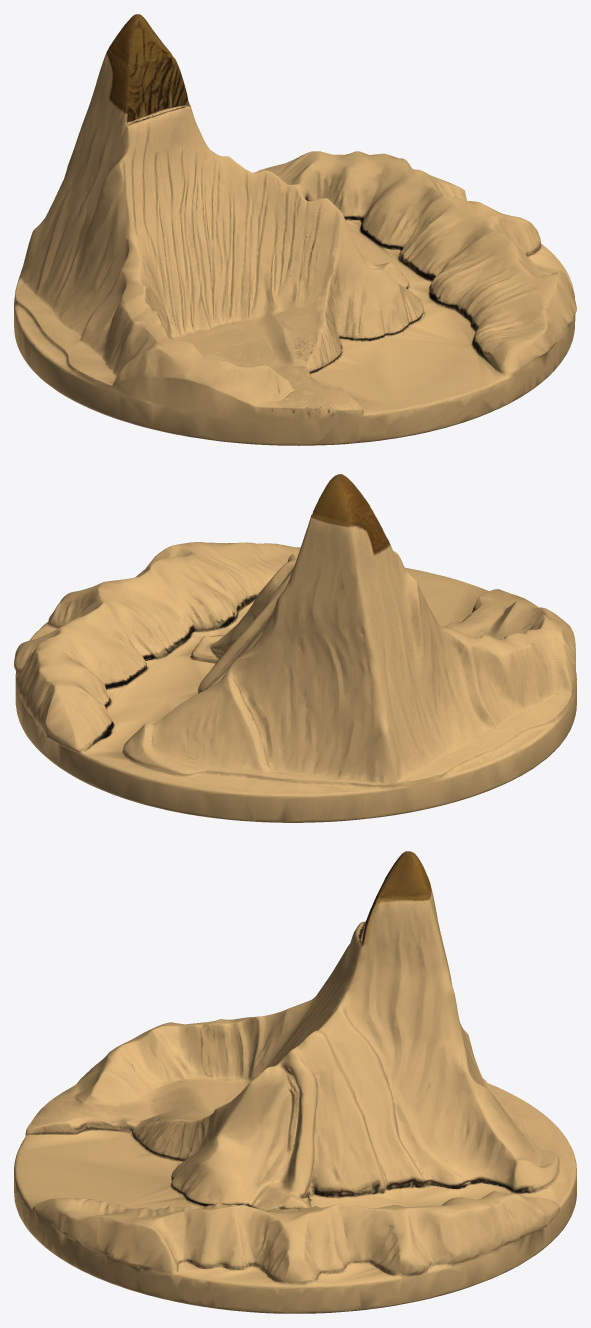
Rendered from milford_sound.glb.
The picture shows the model from 3 angles, top to bottom: view 1: azimuth 30°, elevation 25°; view 2: azimuth 150°, elevation 25°; view 3: azimuth 270°, elevation 25°; orthographic projection.
Visible parts, largest first — view 1: Mesh_0; view 2: Mesh_0; view 3: Mesh_0.
Boxes of the visible parts, x1=… form: Mesh_0: x1=14, y1=14, x2=576, y2=445; Mesh_0: x1=14, y1=474, x2=576, y2=822; Mesh_0: x1=14, y1=851, x2=576, y2=1313.
Size of the model in its own units: 1.9 by 1.1 by 1.9.
Materials: 1 (1 with a texture image).
